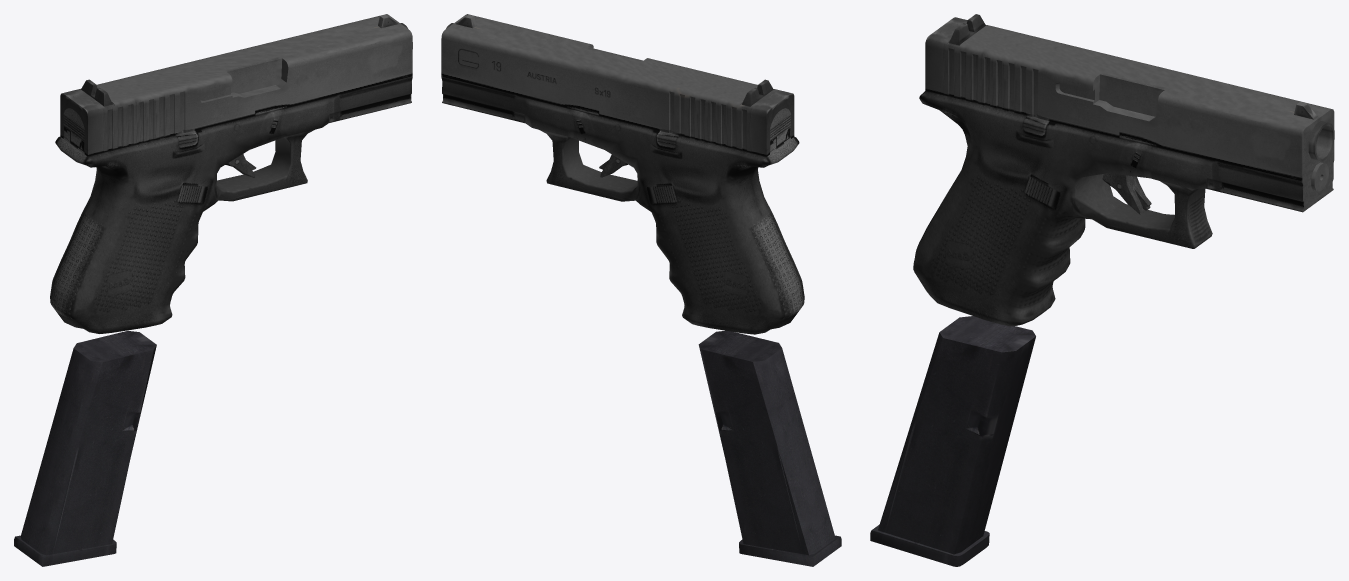
The model's file is pistol_000035.obj.
The picture shows the model from 3 angles, left to right: view 1: azimuth 30°, elevation 25°; view 2: azimuth 150°, elevation 25°; view 3: azimuth 330°, elevation 25°; orthographic projection. The views are drawn at different scales.
Parts seen in each view (by area): view 1: Grip, Object001, Object003; view 2: Grip, Object001, Object003; view 3: Grip, Object001, Object003, Object002, Object004.
Part boxes in pixels (bbox=[...]): Grip: bbox=[50, 77, 412, 333]; Object001: bbox=[60, 14, 412, 156]; Object003: bbox=[14, 331, 156, 566]; Grip: bbox=[441, 78, 804, 334]; Object001: bbox=[441, 14, 794, 156]; Object003: bbox=[698, 330, 841, 566]; Grip: bbox=[913, 91, 1334, 326]; Object001: bbox=[925, 14, 1334, 198]; Object003: bbox=[870, 316, 1035, 566]; Object002: bbox=[1308, 121, 1334, 191]; Object004: bbox=[1102, 173, 1151, 214].
Size of the model in its own units: 0.6953 by 0.8075 by 0.1104.
Materials: 1 (1 with a texture image).
